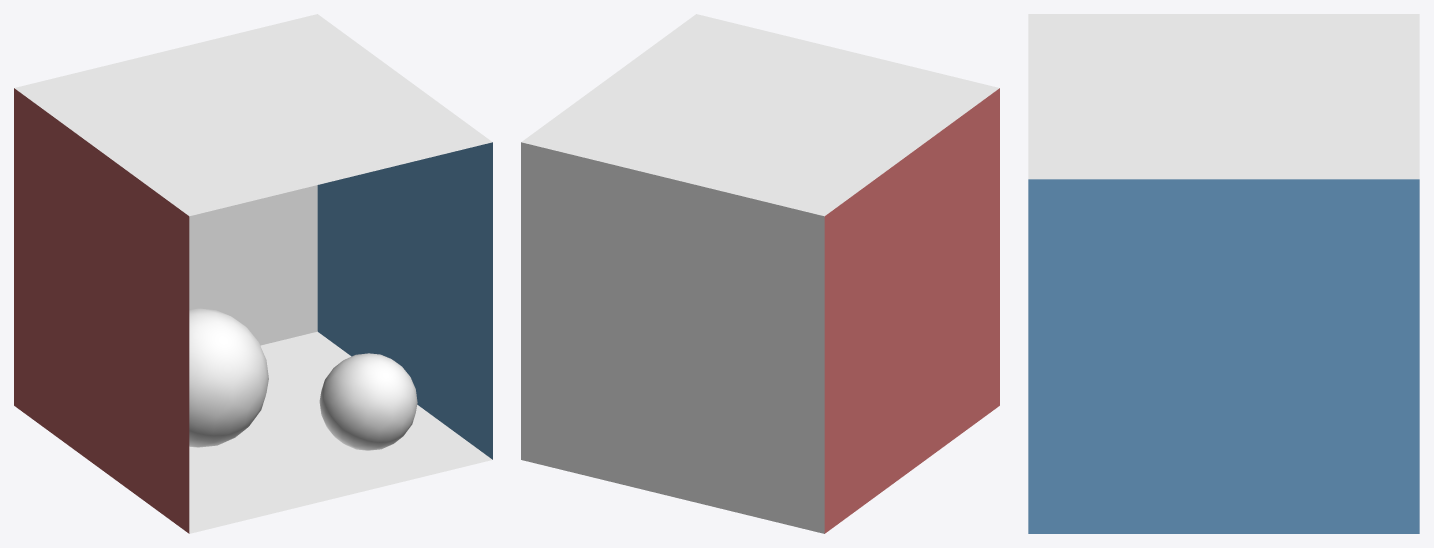
File: cbox_myversion.dae
3 renders of one model, left to right at view 1: azimuth 30°, elevation 25°; view 2: azimuth 150°, elevation 25°; view 3: azimuth 270°, elevation 25°, orthographic. The views are drawn at different scales.
Visible parts, largest first — view 1: Square-S3D-14, Square-S3D-16, Square-S3D-15, Square-S3D-18, Square-S3D-17, Object_18-S3D-19-SMOOTHED, Object_19-S3D-20-SMOOTHED; view 2: Square-S3D-17, Square-S3D-14, Square-S3D-16; view 3: Square-S3D-15, Square-S3D-16.
Boxes of the visible parts, x1,y1,x2,y2 form: Square-S3D-14: (14,88,189,533); Square-S3D-16: (14,14,492,216); Square-S3D-15: (317,142,492,459); Square-S3D-18: (189,331,492,533); Square-S3D-17: (189,185,317,345); Object_18-S3D-19-SMOOTHED: (189,308,268,447); Object_19-S3D-20-SMOOTHED: (319,353,417,450); Square-S3D-17: (521,142,824,533); Square-S3D-14: (824,88,999,533); Square-S3D-16: (521,14,999,216); Square-S3D-15: (1028,179,1419,533); Square-S3D-16: (1028,14,1419,179).
Bounding box in the file's own units: 1 × 1 × 1.
